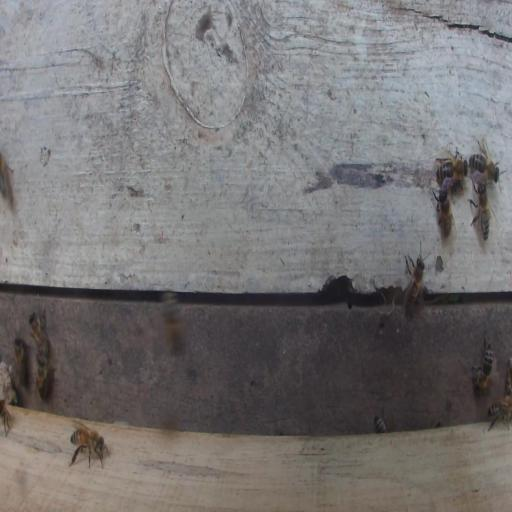nonpollenbee: (402, 239, 431, 314), (68, 425, 109, 468), (468, 135, 501, 184), (469, 180, 494, 242), (161, 292, 186, 352), (471, 334, 493, 392), (435, 148, 467, 184), (28, 308, 52, 356), (433, 187, 455, 238), (487, 395, 512, 431), (0, 152, 15, 205), (13, 336, 26, 387), (35, 352, 48, 400), (1, 397, 11, 436), (374, 415, 390, 433)
